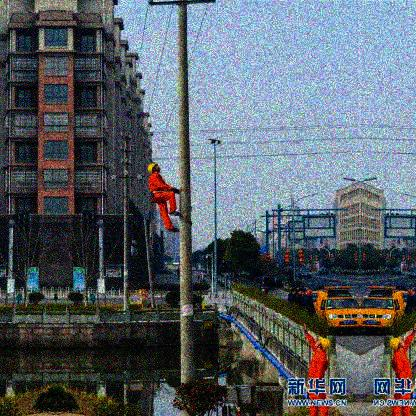helmet: (389, 335, 406, 351), (314, 337, 332, 351), (146, 162, 161, 176)
